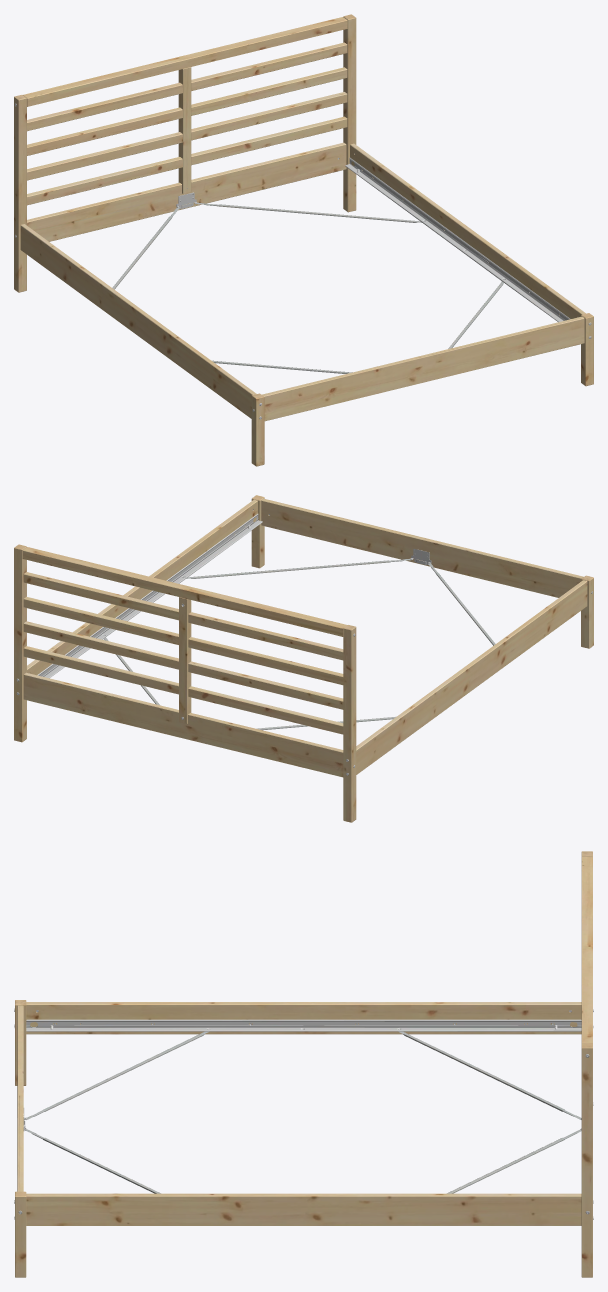
File: tarva_rama_ozka_39615837.glb
The picture shows the model from 3 angles, top to bottom: view 1: azimuth 30°, elevation 25°; view 2: azimuth 150°, elevation 25°; view 3: azimuth 270°, elevation 25°; orthographic projection. The views are drawn at different scales.
Visible parts, largest first — view 1: tarva_rama_ozka_39615837; view 2: tarva_rama_ozka_39615837; view 3: tarva_rama_ozka_39615837.
Boxes of the visible parts, <box> form: tarva_rama_ozka_39615837: <box>14,14,593,466</box>; tarva_rama_ozka_39615837: <box>14,495,593,822</box>; tarva_rama_ozka_39615837: <box>14,851,593,1277</box>.
Size of the model in its own units: 1.68 by 0.9145 by 2.09.
Materials: 1 (1 with a texture image).
